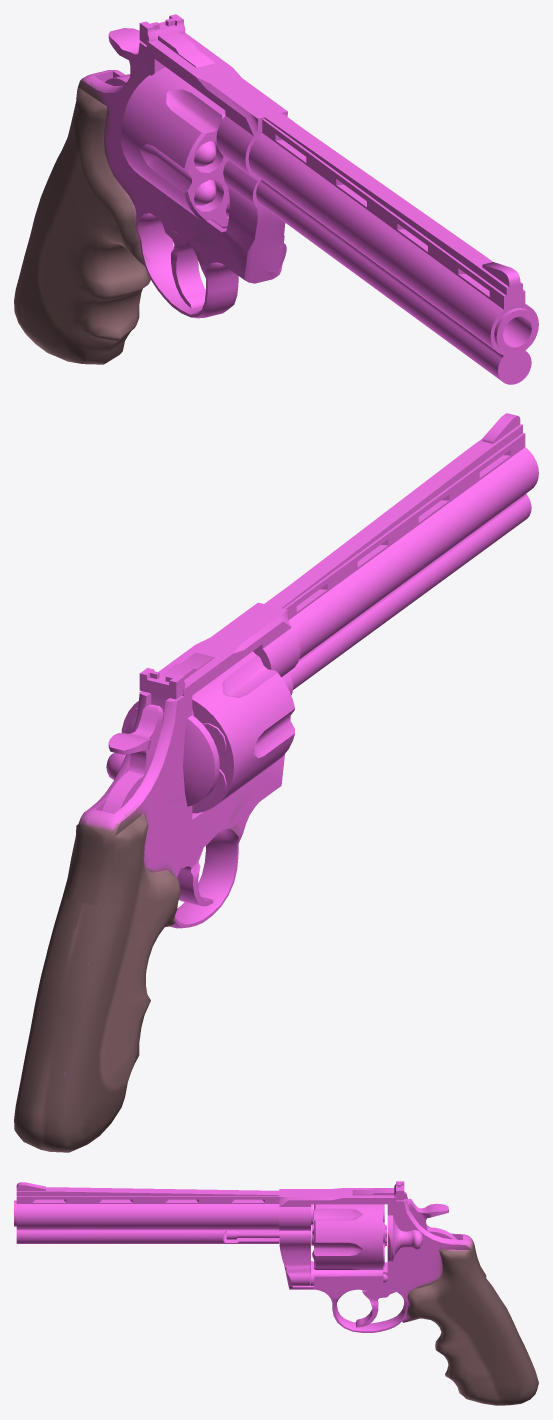
File: gun.obj
3 views of the same model, one above another, from view 1: azimuth 30°, elevation 25°; view 2: azimuth 150°, elevation 25°; view 3: azimuth 270°, elevation 25° (orthographic). The views are drawn at different scales.
Visible parts, largest first — view 1: Colt_Anaconda.001; view 2: Colt_Anaconda.001; view 3: Colt_Anaconda.001.
Boxes of the visible parts, x1,y1,x2,y2 form: Colt_Anaconda.001: (14,14,538,384); Colt_Anaconda.001: (14,413,538,1152); Colt_Anaconda.001: (14,1181,538,1405).
Bounding box in the file's own units: 0.3661 × 1.25 × 2.71.
1 material, 1 textured.
